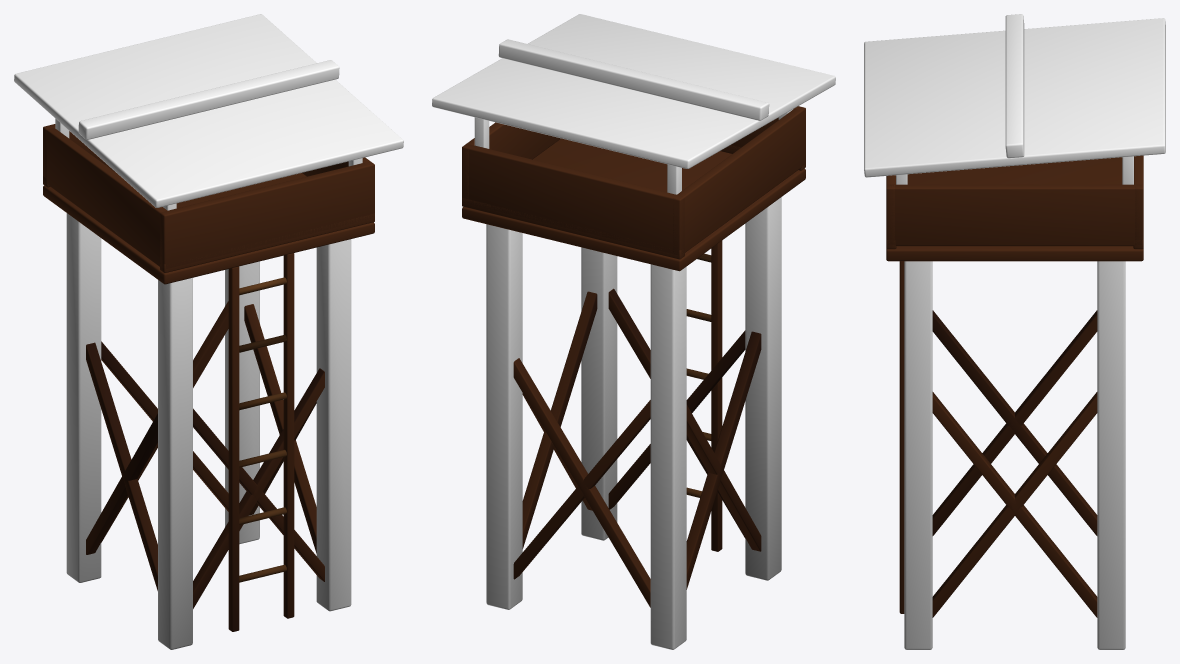
The model's file is old-watchtower.obj.
3 views of the same model, side by side, from view 1: azimuth 30°, elevation 25°; view 2: azimuth 150°, elevation 25°; view 3: azimuth 270°, elevation 25° (orthographic). The views are drawn at different scales.
Visible parts, largest first — view 1: old-watchtower; view 2: old-watchtower; view 3: old-watchtower.
Part boxes in pixels (bbox=[...]): old-watchtower: bbox=[14, 14, 403, 649]; old-watchtower: bbox=[432, 14, 835, 649]; old-watchtower: bbox=[864, 14, 1165, 649].
Bounding box in the file's own units: 2.4 × 4.5 × 2.35.
